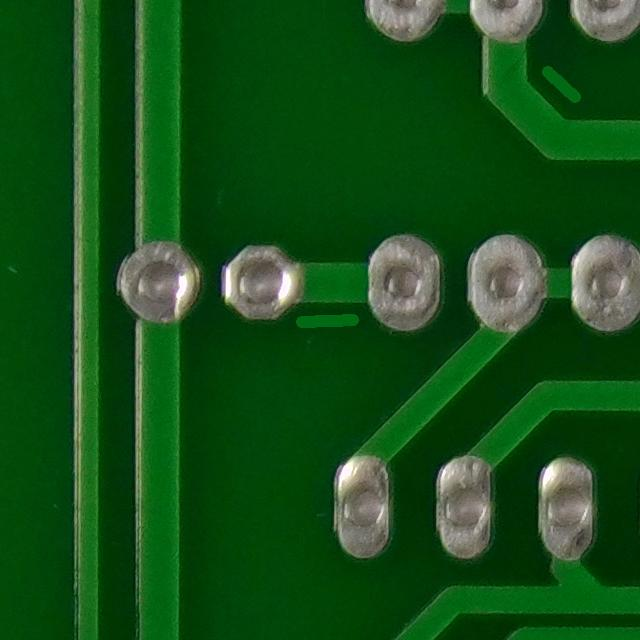spurious_copper: (269, 292, 371, 348)
